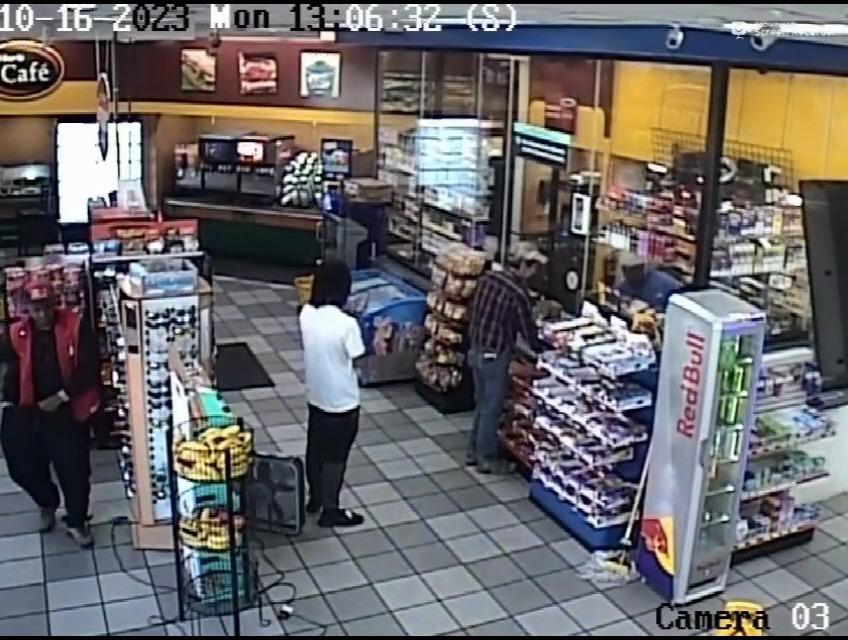Normal: (290, 255, 372, 532), (467, 235, 536, 478)
shoplifting: (0, 261, 103, 529)
